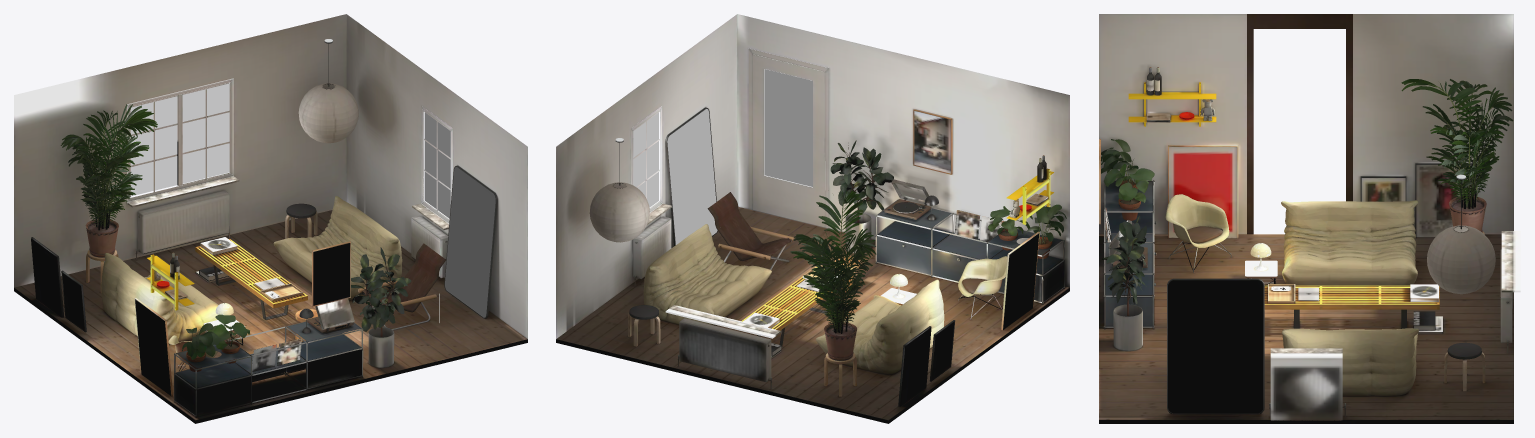
File: compressed_alt8.glb
3 views of the same model, side by side, from view 1: azimuth 30°, elevation 25°; view 2: azimuth 150°, elevation 25°; view 3: azimuth 270°, elevation 25° (orthographic). The views are drawn at different scales.
Visible parts, largest first — view 1: alt8; view 2: alt8; view 3: alt8.
Boxes of the visible parts, x1=… form: alt8: x1=14, y1=14, x2=527, y2=423; alt8: x1=556, y1=14, x2=1069, y2=423; alt8: x1=1099, y1=14, x2=1520, y2=423.
Bounding box in the file's own units: 4.57 × 2.54 × 4.33.
3 materials, 2 textured.
